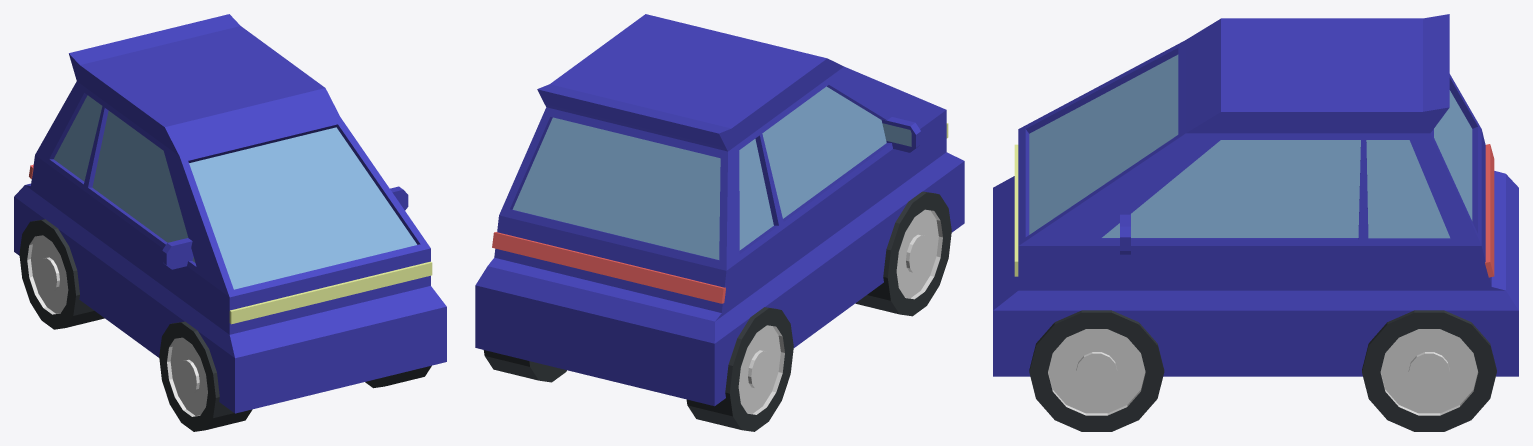
File: car-4.glb
3 renders of one model, left to right at view 1: azimuth 30°, elevation 25°; view 2: azimuth 150°, elevation 25°; view 3: azimuth 270°, elevation 25°, orthographic. The views are drawn at different scales.
Parts seen in each view (by area): view 1: Cube, Cylinder.001, Cylinder.002, Cube.001, Cube.002; view 2: Cube, Cylinder.002, Cylinder.001, Cube.003, Cube.002; view 3: Cube, Cylinder.002, Cylinder.001, Cube.003, Cube.001.
Boxes of the visible parts, left/top/right/bottom form: Cube: left=14, top=14, right=446, bottom=413; Cylinder.001: left=159, top=321, right=431, bottom=431; Cylinder.002: left=19, top=219, right=104, bottom=329; Cube.001: left=229, top=261, right=432, bottom=324; Cube.002: left=162, top=186, right=408, bottom=269; Cube: left=475, top=14, right=964, bottom=406; Cylinder.002: left=483, top=307, right=793, bottom=431; Cylinder.001: left=855, top=191, right=951, bottom=316; Cube.003: left=492, top=232, right=725, bottom=303; Cube.002: left=881, top=117, right=920, bottom=152; Cube: left=993, top=14, right=1518, bottom=376; Cylinder.002: left=1362, top=310, right=1496, bottom=431; Cylinder.001: left=1029, top=310, right=1164, bottom=431; Cube.003: left=1485, top=144, right=1494, bottom=277; Cube.001: left=1014, top=144, right=1018, bottom=276.
Bounding box in the file's own units: 2.4 × 2.45 × 3.8.
